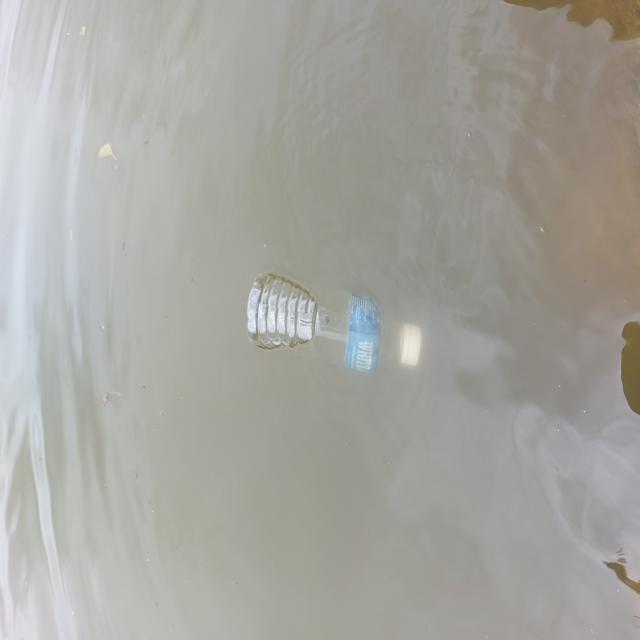waterbottle: (230, 270, 422, 384)
